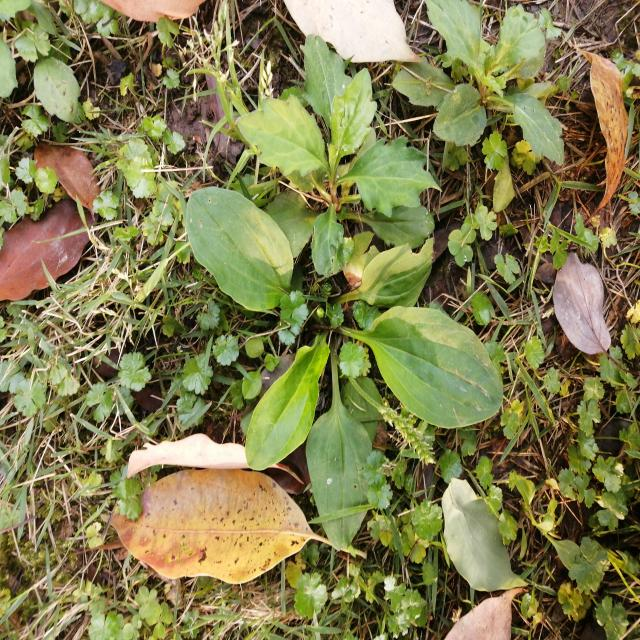plantain: (198, 204, 478, 521)
